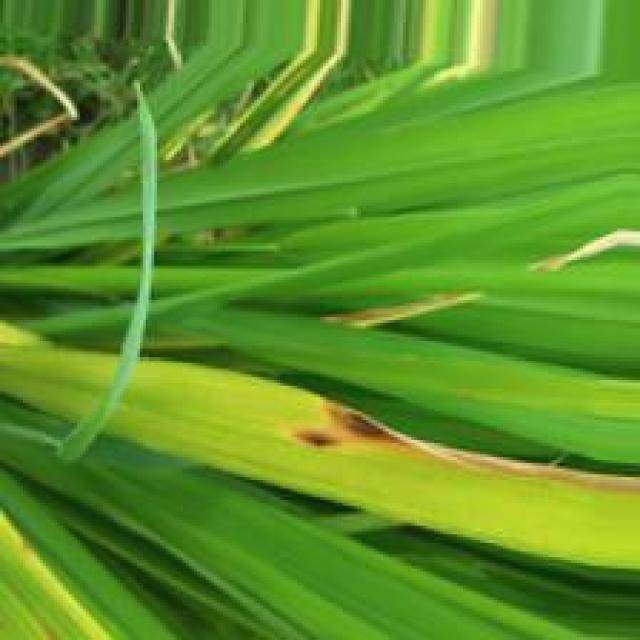Brown_Spot: (276, 397, 468, 458)
